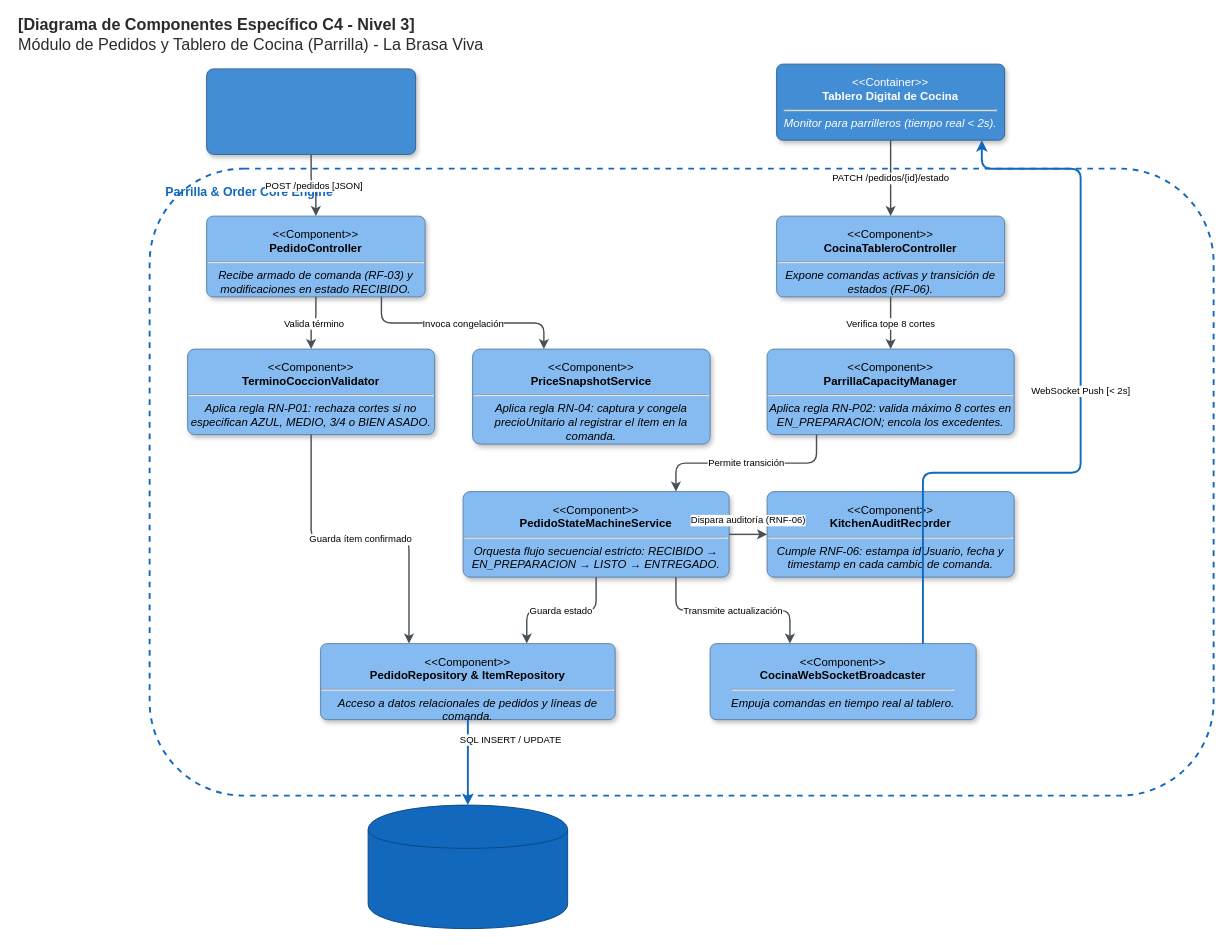
This 1230x945 diagram has some shape labels left out. The shapes that lost their labels are listed below. From the top down, each one's centre as x and y in pixels, then its label:
the point at 311,112: <<Container>> App Salón / Comensal Selección de cortes y términos de cocción.
the point at 467,866: <<Container>> PostgreSQL DB Tablas: pedidos, item_pedidos, auditoria_cocina.
